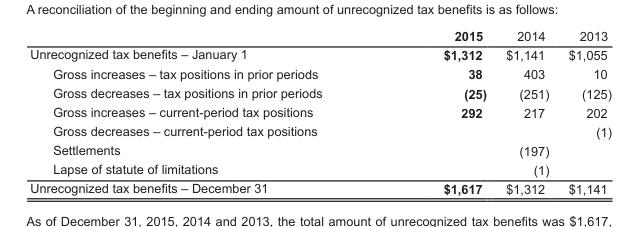table: (29, 28, 610, 195)
table column: (29, 28, 382, 195), (382, 28, 495, 195), (495, 28, 558, 195), (558, 28, 610, 195)
table column header: (29, 28, 610, 44)
table row: (29, 63, 610, 83), (29, 44, 610, 63), (29, 83, 610, 102), (29, 102, 610, 121), (29, 121, 610, 140), (29, 140, 610, 159), (29, 159, 610, 178), (29, 178, 610, 195), (29, 28, 610, 44)
